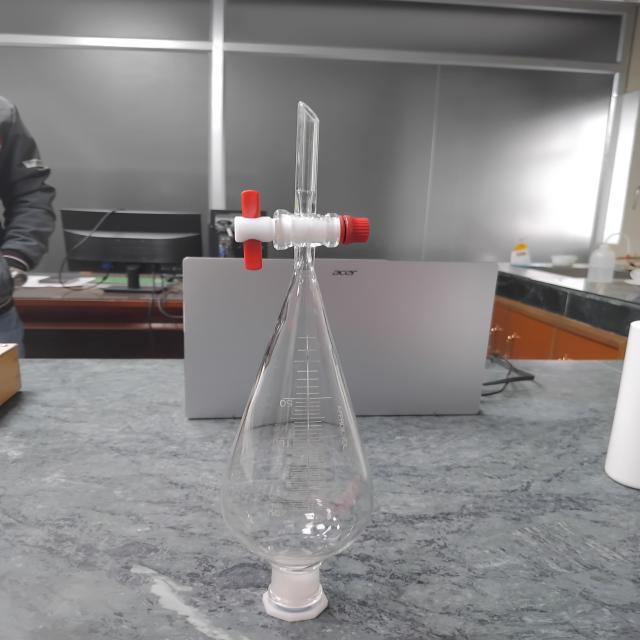Separating_Funnel: (196, 74, 402, 635)
